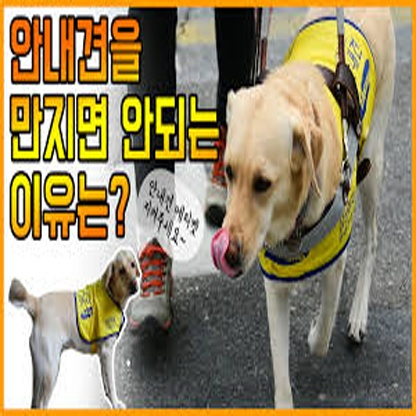guide-dog: (224, 7, 395, 414), (11, 249, 145, 416)
